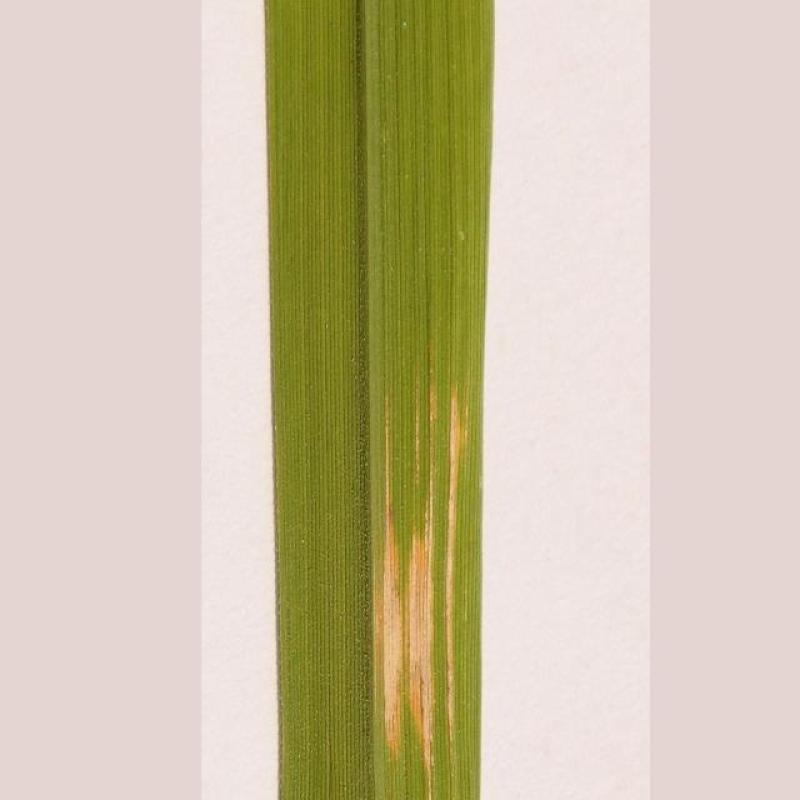Bacterial_Leaf_Blight: (358, 311, 480, 800)
